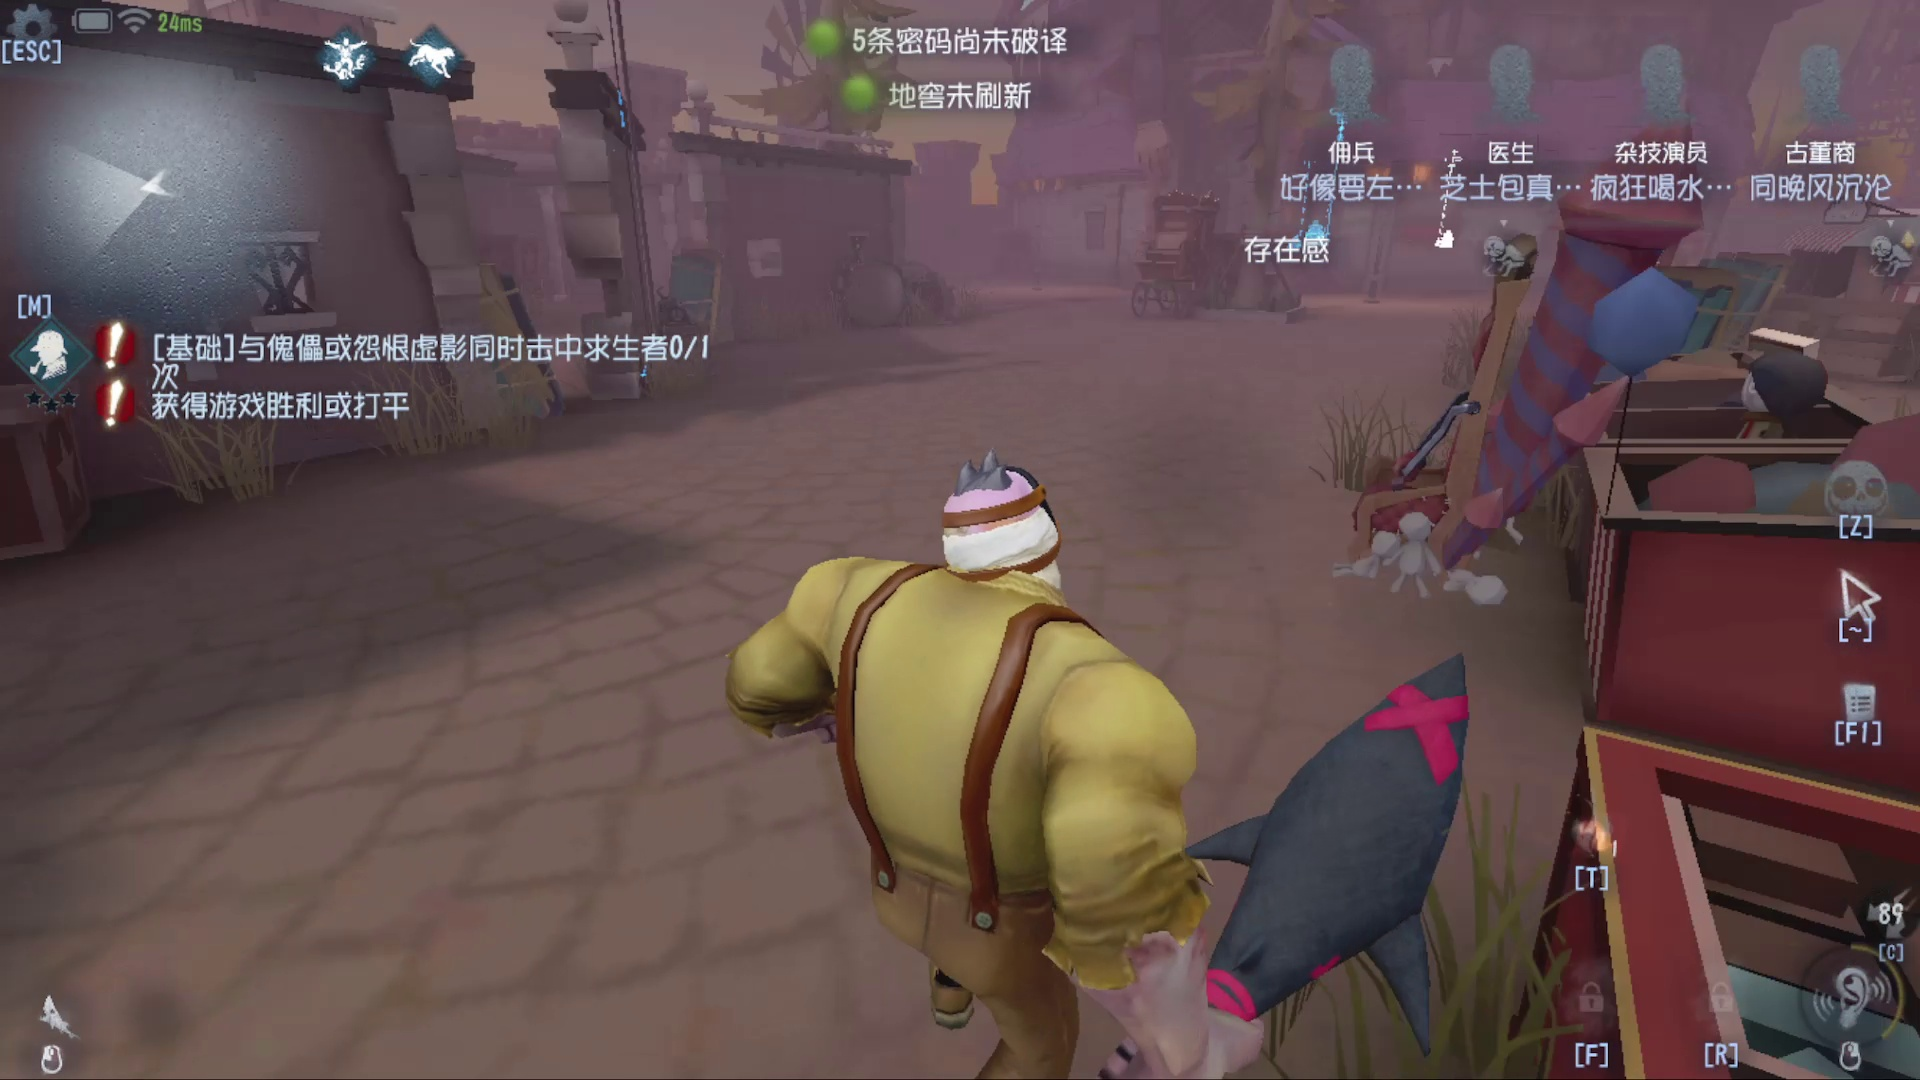密码机: (644, 281, 720, 392), (1321, 103, 1362, 278), (1429, 148, 1472, 255), (1290, 157, 1323, 281)
木板: (451, 241, 593, 426), (653, 237, 742, 322)
狂欢之椅: (1316, 119, 1730, 592)
